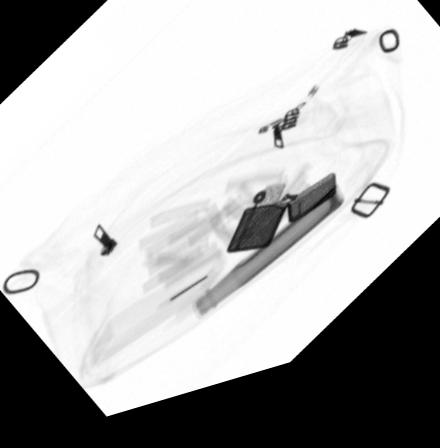Lighter: (224, 190, 335, 267)
